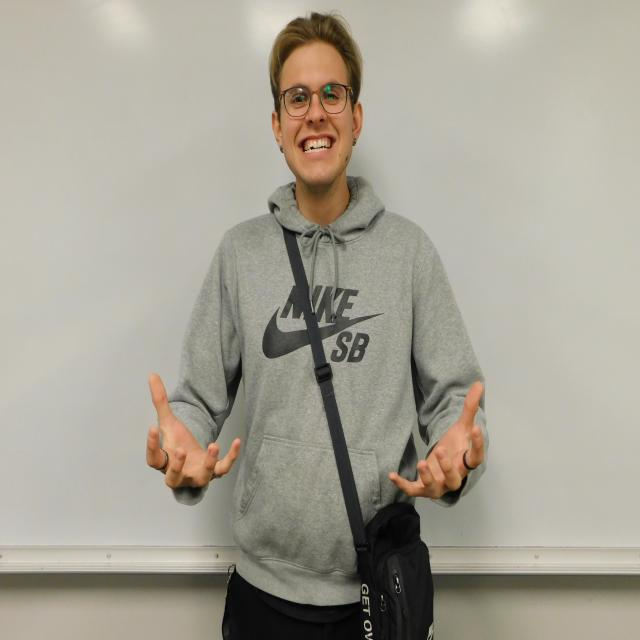want: (146, 373, 486, 500)
